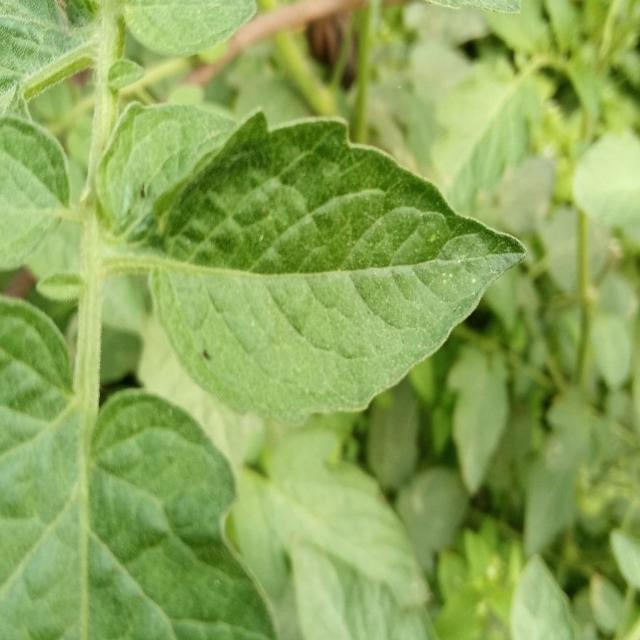Healthy: (88, 36, 538, 480), (0, 299, 275, 639)
